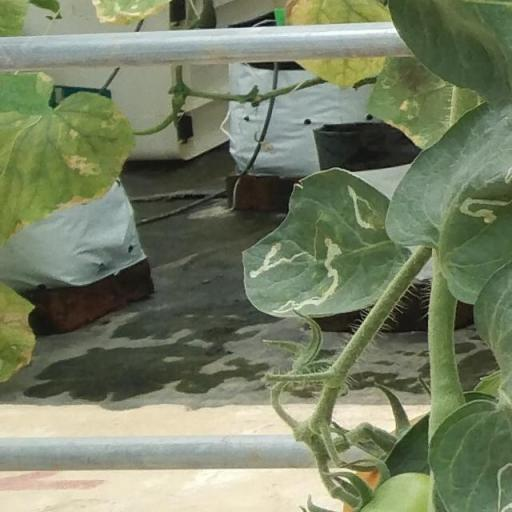Leaf_Miner: (233, 159, 419, 324), (384, 96, 512, 308), (424, 392, 512, 512)
